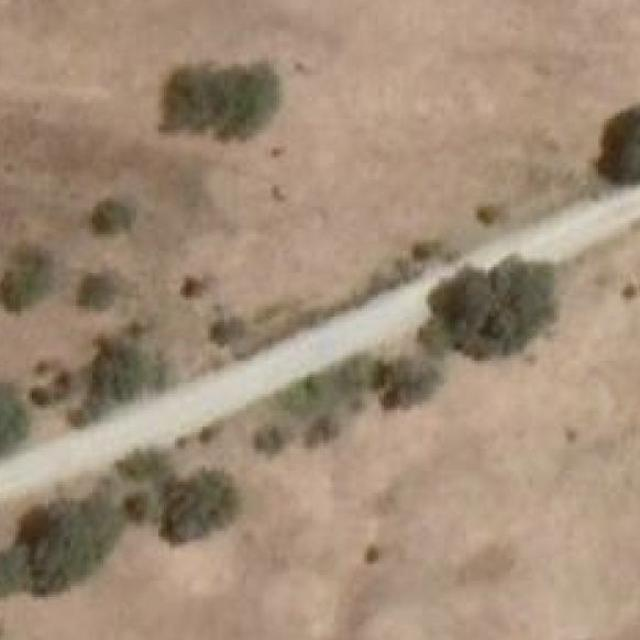Tree: (426, 254, 558, 359), (15, 496, 126, 595), (62, 331, 172, 419), (164, 61, 279, 142), (160, 471, 236, 540), (373, 353, 433, 413), (598, 108, 640, 190), (0, 250, 54, 306), (0, 377, 21, 465), (96, 199, 140, 238), (206, 311, 248, 349), (79, 272, 116, 314), (303, 410, 341, 450), (250, 425, 290, 458), (472, 199, 504, 229), (176, 273, 208, 300), (26, 381, 55, 410), (0, 553, 15, 606), (125, 493, 151, 520)
